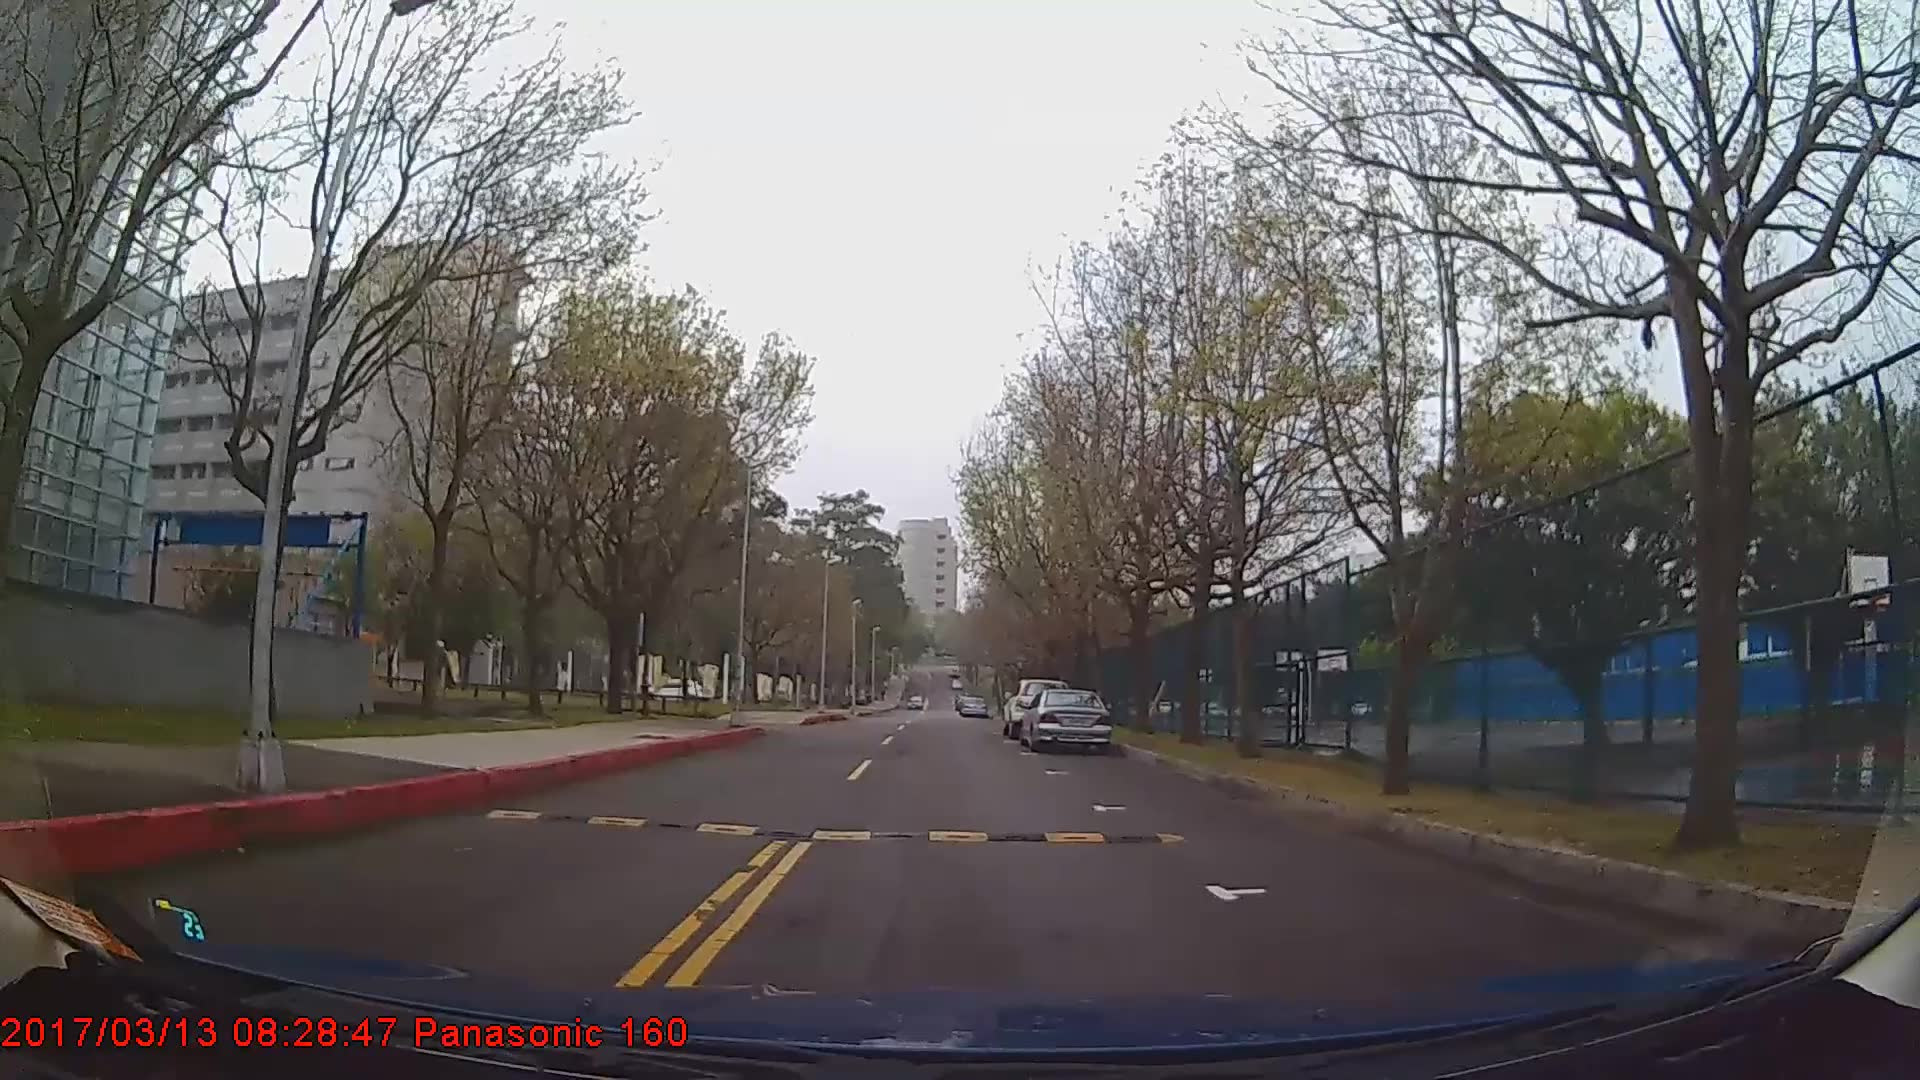vehicle: (1018, 687, 1113, 752), (1004, 676, 1071, 740), (956, 695, 988, 717)
